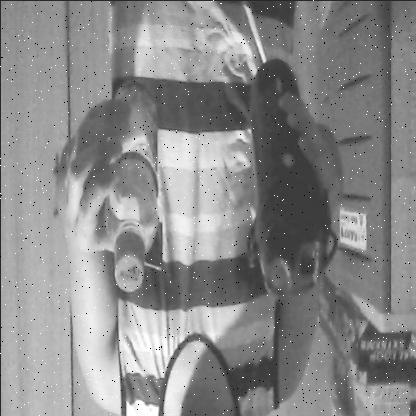Plastic Bottle: (101, 81, 161, 300)
